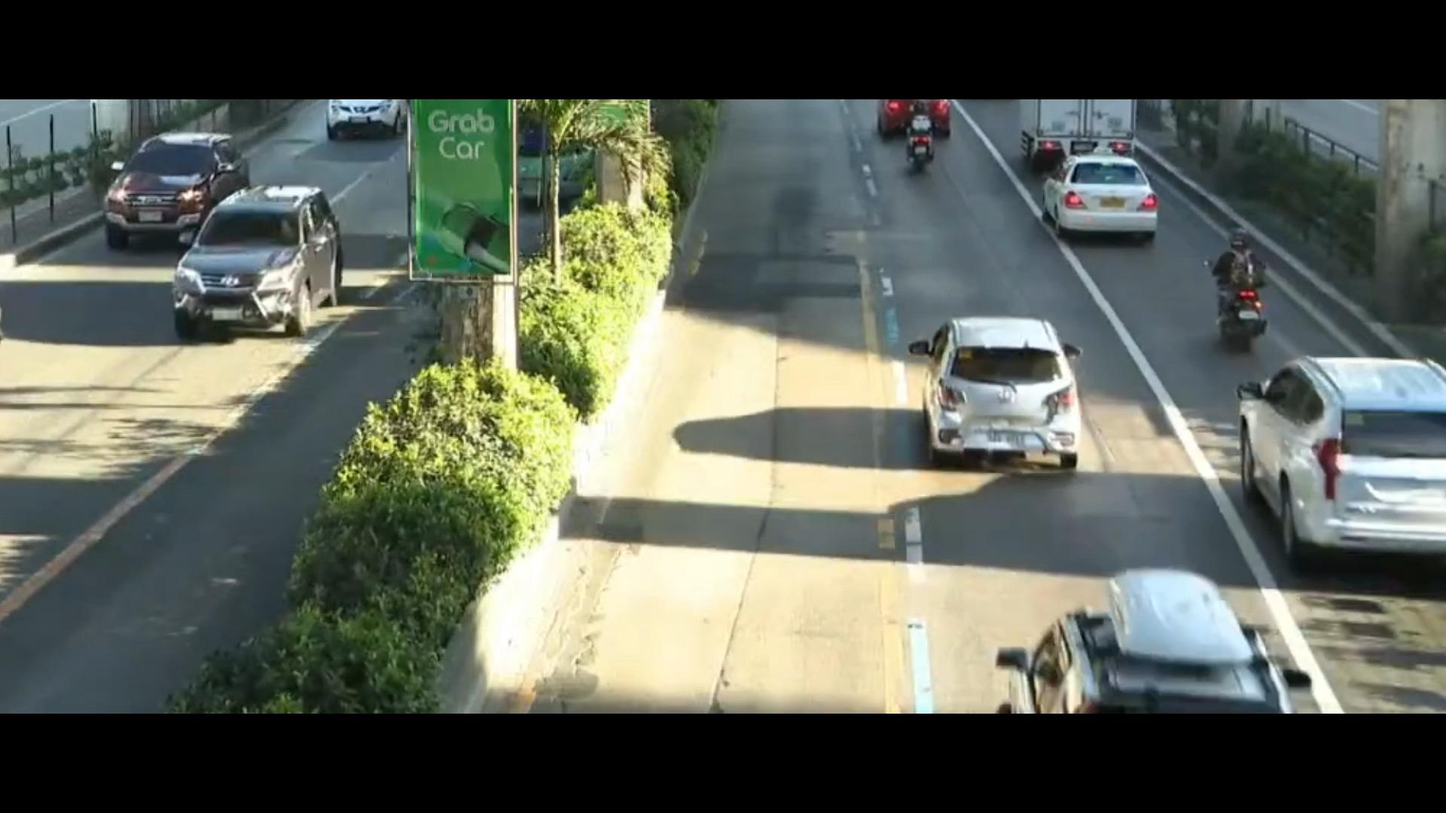Motorcycle: (1198, 221, 1298, 357), (888, 104, 964, 182)
SUV: (1217, 349, 1446, 587), (152, 172, 366, 351), (78, 128, 262, 233)
Sedan: (891, 292, 1138, 500), (1033, 142, 1156, 258)
Truck: (1010, 101, 1144, 174)
